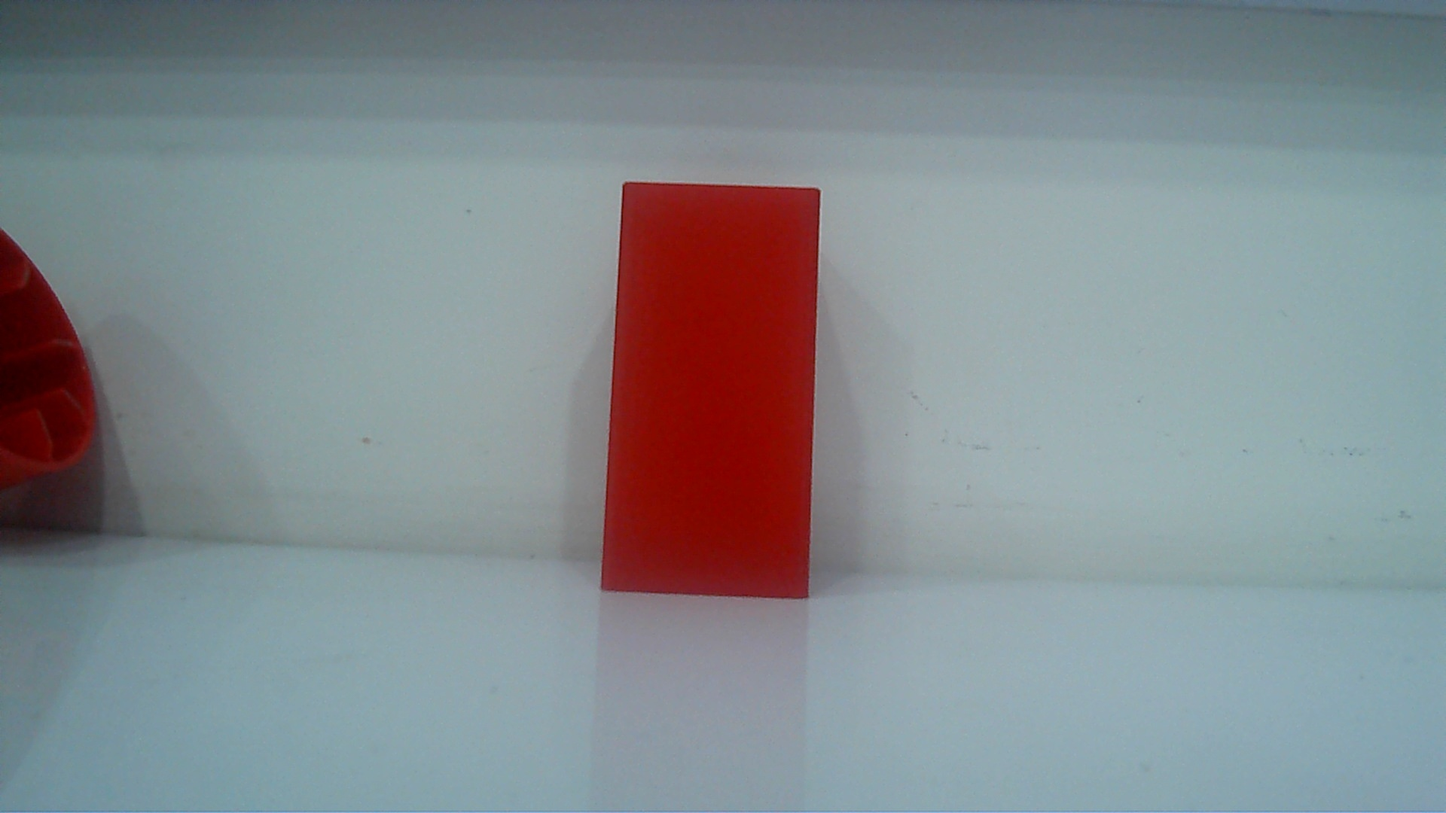red: (588, 157, 830, 631)
